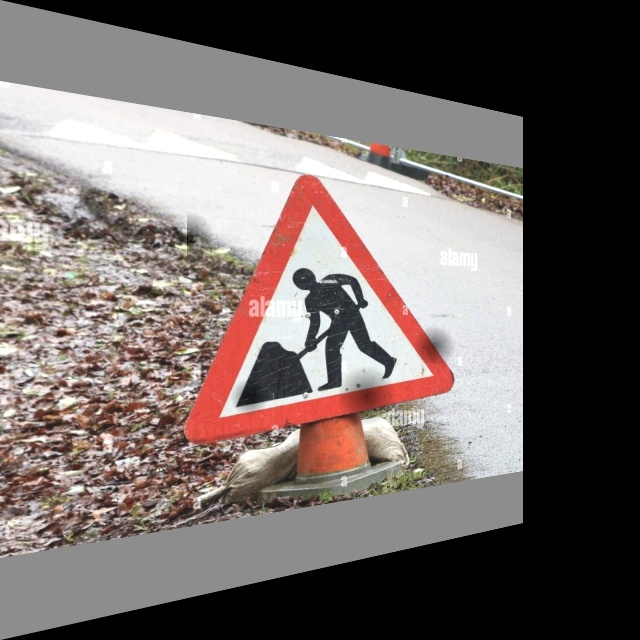Men_at_Work: (187, 163, 462, 437)
